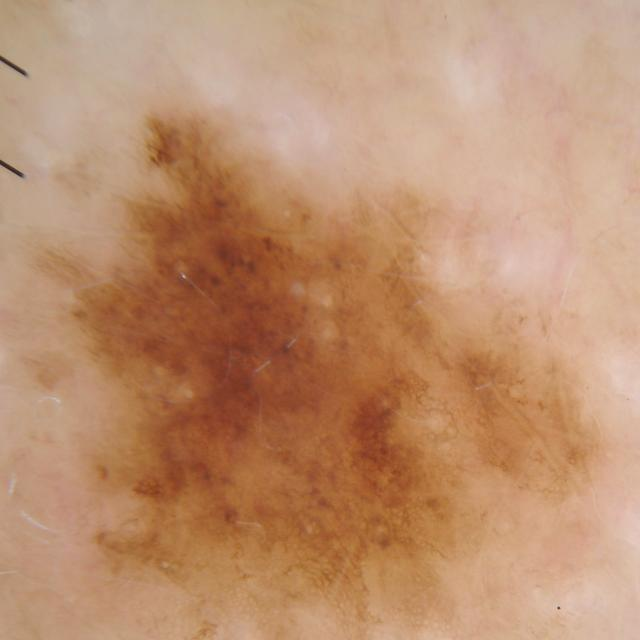Melanoma: (49, 62, 633, 640)
